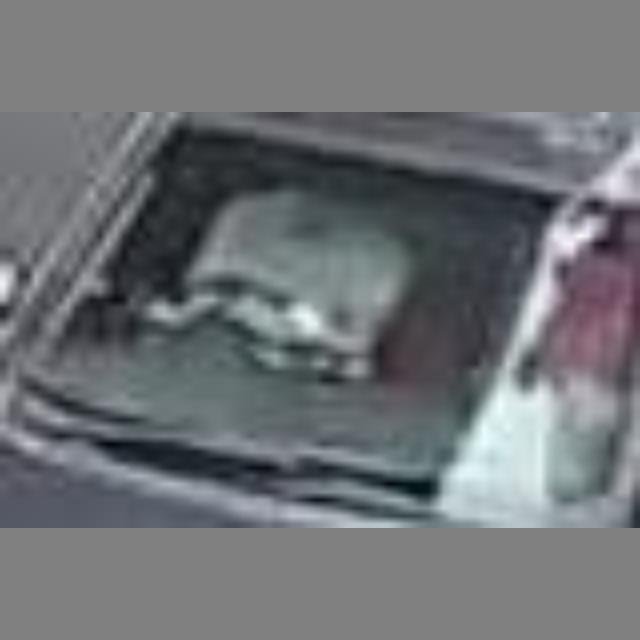tidak-pakai: (176, 168, 376, 424)
